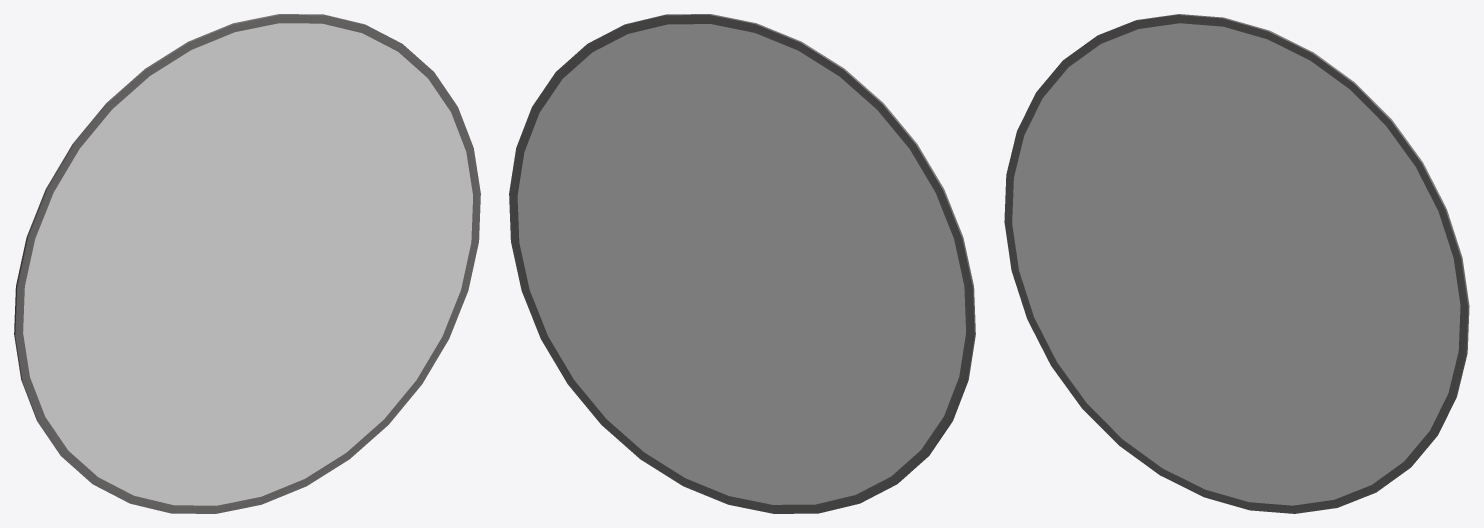
The model's file is hole.fbx.
The picture shows the model from 3 angles, left to right: view 1: azimuth 30°, elevation 25°; view 2: azimuth 150°, elevation 25°; view 3: azimuth 330°, elevation 25°; orthographic projection.
Visible parts, largest first — view 1: hole; view 2: hole; view 3: hole.
Boxes of the visible parts, x1,y1,x2,y2 form: hole: (14,14,480,513); hole: (509,14,975,513); hole: (1004,14,1469,513).
Size of the model in its own units: 28.4 by 28.4 by 0.1361.
